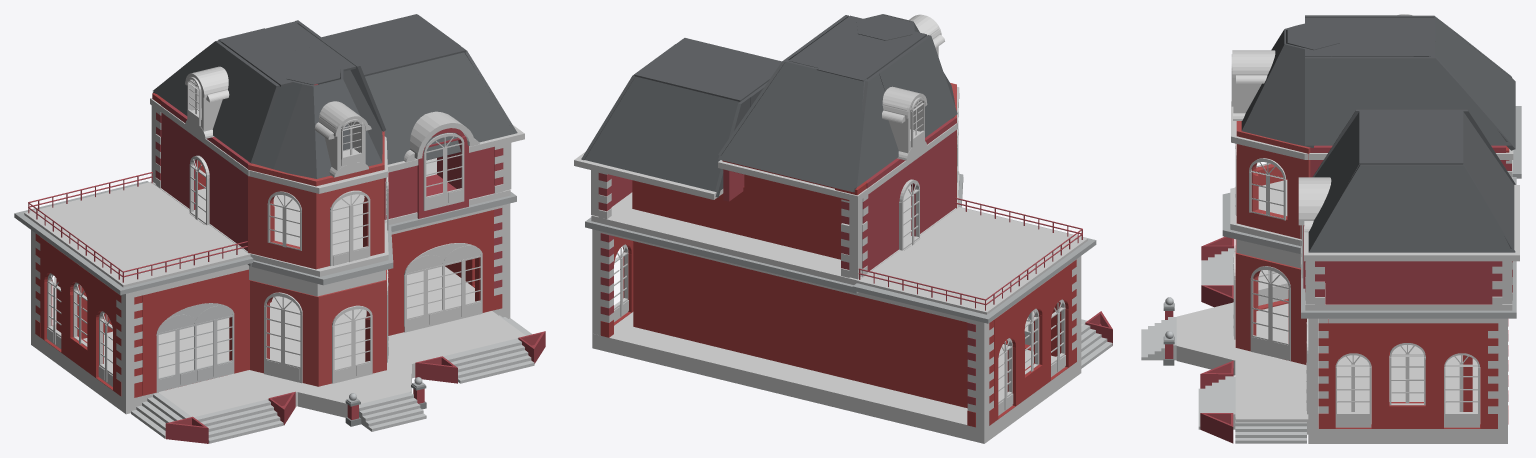
File: MyHouse.glb
3 renders of one model, left to right at view 1: azimuth 30°, elevation 25°; view 2: azimuth 150°, elevation 25°; view 3: azimuth 270°, elevation 25°, orthographic. The views are drawn at different scales.
Visible parts, largest first — view 1: Mesh_Mesh_head_geo.001_lambert2SG.001; view 2: Mesh_Mesh_head_geo.001_lambert2SG.001; view 3: Mesh_Mesh_head_geo.001_lambert2SG.001.
Boxes of the visible parts, x1,y1,x2,y2 form: Mesh_Mesh_head_geo.001_lambert2SG.001: [14, 14, 545, 443]; Mesh_Mesh_head_geo.001_lambert2SG.001: [574, 14, 1112, 443]; Mesh_Mesh_head_geo.001_lambert2SG.001: [1141, 14, 1521, 443].
Size of the model in its own units: 148 by 102 by 114.
